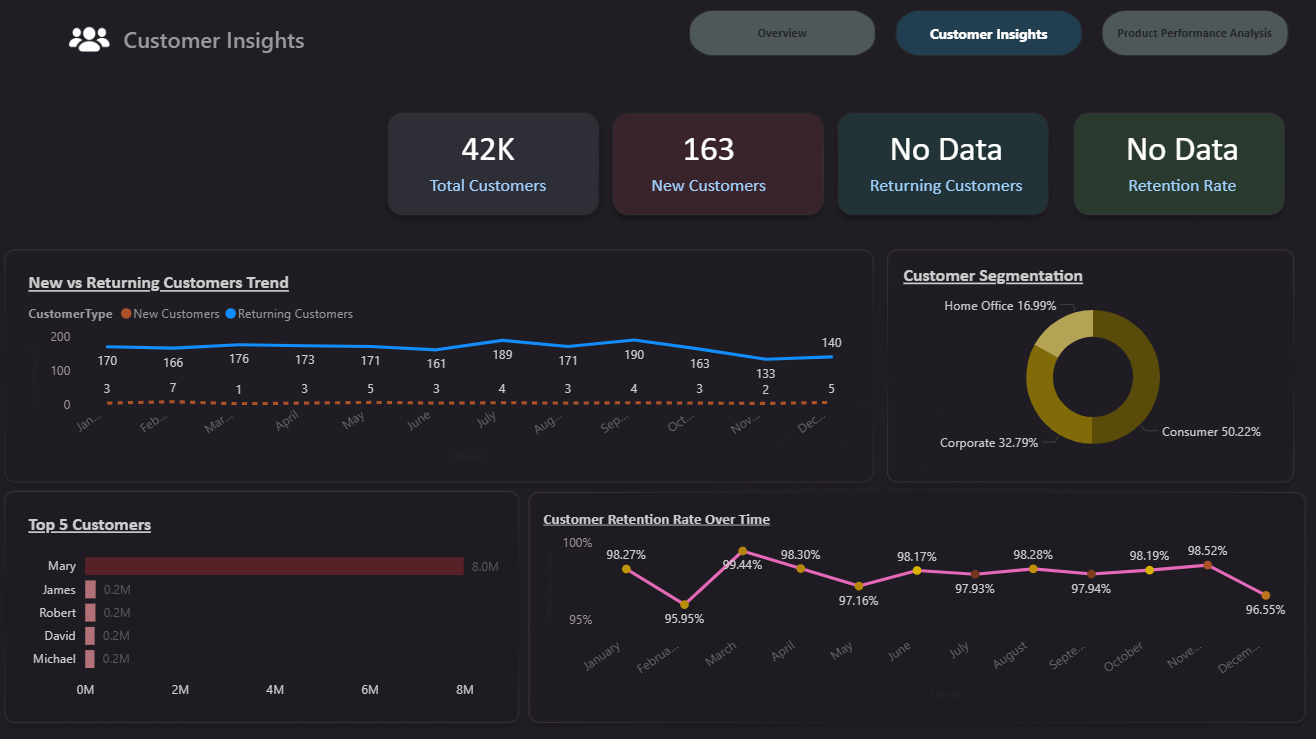

The dashboard page shown, as its layout file describes it:
{"tool":"powerbi","page":{"name":"Customer Insights","canvas":[1280,720],"ordinal":1},"visuals":[{"type":"card","fields":{"Values":["calculation_tbl.Total Customers"]},"box":[382.4,97.7,193,118.2],"z":0},{"type":"card","fields":{"Values":["calculation_tbl.New Customers"]},"box":[595.9,98.1,191.9,118.3],"z":1000},{"type":"card","fields":{"Values":["calculation_tbl.Returning Customers"]},"box":[825.3,98.1,191.9,118.3],"z":2000},{"type":"card","fields":{"Values":["calculation_tbl.Retention Rate"]},"box":[1056.8,97.7,184.6,118.2],"z":3000},{"type":"lineChart","title":"New vs Returning Customers Trend","fields":{"Category":["Date_tbl.Date.Variation.Date Hierarchy.Month"],"Series":["Customer_Type_Table.CustomerType"],"Y":["calculation_tbl.Customer Count"]},"box":[30.3,265.5,810.8,190.4],"z":4000},{"type":"lineChart","title":"Customer Retention Rate Over Time","fields":{"Category":["Date_tbl.Date.Variation.Date Hierarchy.Month"],"Y":["calculation_tbl.Retention Rate"]},"box":[527.2,495.8,729.9,190.6],"z":7000},{"type":"donutChart","title":"Customer Segmentation","fields":{"Y":["calculation_tbl.Total Customers"],"Category":["ecommerce_data.customer_segment"]},"box":[874.7,258.2,376.4,197.9],"z":8000},{"type":"clusteredBarChart","title":"Top 5 Customers","fields":{"Y":["calculation_tbl.Total Sales"],"Category":["ecommerce_data.customer_first_name"]},"box":[29.9,497.8,476.4,189.2],"z":9000},{"type":"pageNavigator","box":[668.4,13.3,588.7,45.8],"z":10000},{"type":"textbox","box":[121.9,21.7,249.7,45.8],"z":10001},{"type":"image","box":[44.6,13.3,98.9,54.3],"z":10002}]}

Visuals, with their boxes in screenshot pixels (x1, y1, x2, y2), scaled from the page's 1280x720 canvas onto the 1316x739 screenshot:
card - calculation_tbl.Total Customers: 393 100 592 222
card - calculation_tbl.New Customers: 613 101 810 222
card - calculation_tbl.Returning Customers: 849 101 1046 222
card - calculation_tbl.Retention Rate: 1087 100 1276 222
"New vs Returning Customers Trend" lineChart: 31 273 865 468
"Customer Retention Rate Over Time" lineChart: 542 509 1292 705
"Customer Segmentation" donutChart: 899 265 1286 468
"Top 5 Customers" clusteredBarChart: 31 511 521 705
pageNavigator: 687 14 1292 61
textbox: 125 22 382 69
image: 46 14 148 69
